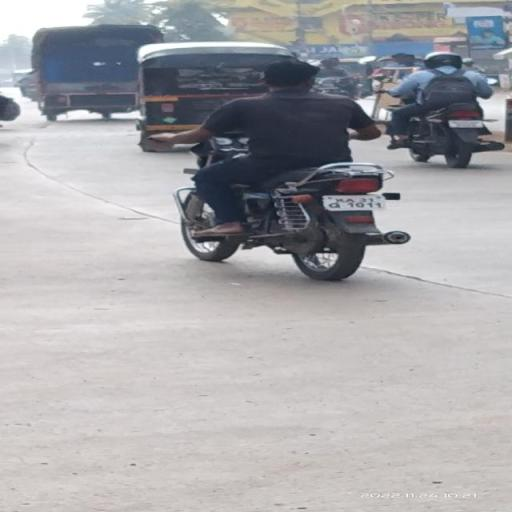bike: (148, 59, 416, 290)
numberplate: (325, 194, 385, 210)
withouthelmet: (264, 62, 316, 88)
